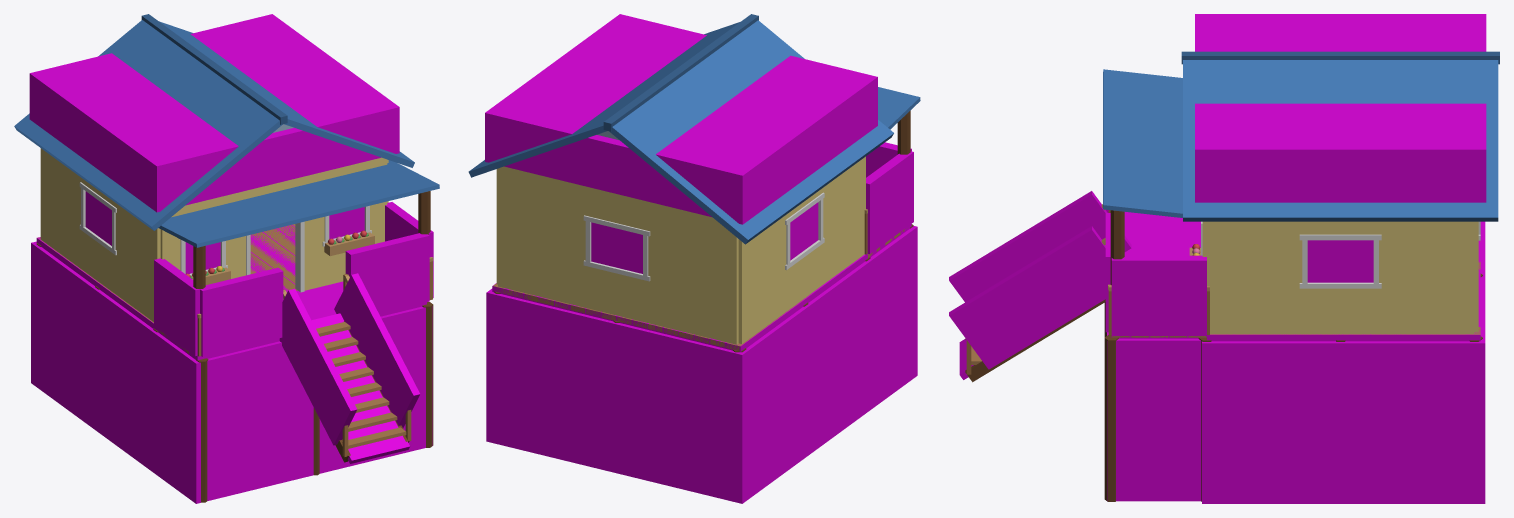
Rendered from stilt_house_c.glb.
3 renders of one model, left to right at view 1: azimuth 30°, elevation 25°; view 2: azimuth 150°, elevation 25°; view 3: azimuth 270°, elevation 25°, orthographic. The views are drawn at different scales.
Parts seen in each view (by area): view 1: COLP_stilt_house_c, stilt_house_c, COL_stilt_house_c; view 2: COLP_stilt_house_c, stilt_house_c, COL_stilt_house_c; view 3: COLP_stilt_house_c, stilt_house_c, COL_stilt_house_c.
Boxes of the visible parts, x1,y1,x2,y2 form: COLP_stilt_house_c: (31, 202, 433, 503); stilt_house_c: (14, 14, 439, 502); COL_stilt_house_c: (29, 14, 426, 463); COLP_stilt_house_c: (486, 142, 917, 503); stilt_house_c: (468, 14, 920, 352); COL_stilt_house_c: (485, 14, 911, 352); COLP_stilt_house_c: (949, 191, 1485, 503); stilt_house_c: (965, 51, 1499, 501); COL_stilt_house_c: (959, 14, 1486, 379).
Bounding box in the file's own units: 5.86 × 7.1 × 9.26.
